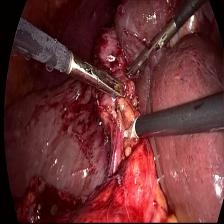Grasper: (121, 20, 178, 87), (65, 46, 128, 99)
Hook: (115, 114, 141, 151)
